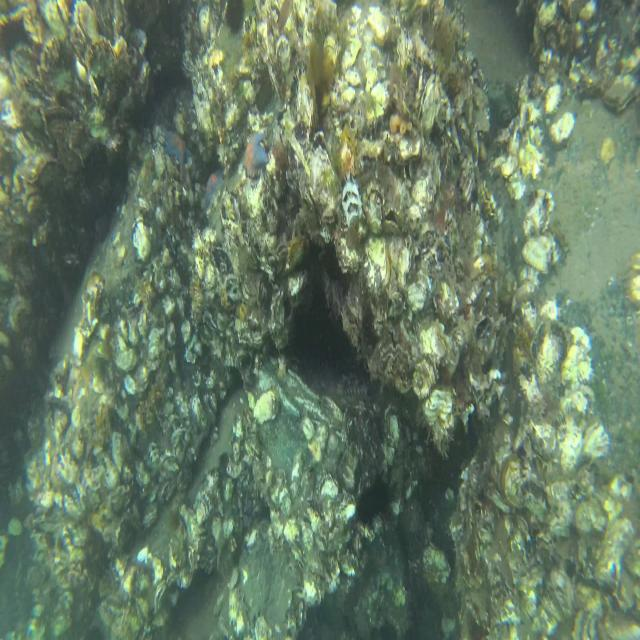echinus: (355, 474, 395, 531), (321, 230, 347, 293), (224, 3, 245, 33)
holothurian: (337, 382, 369, 397), (338, 372, 358, 385)
starfish: (240, 129, 270, 180), (160, 126, 193, 169), (200, 164, 227, 213)
